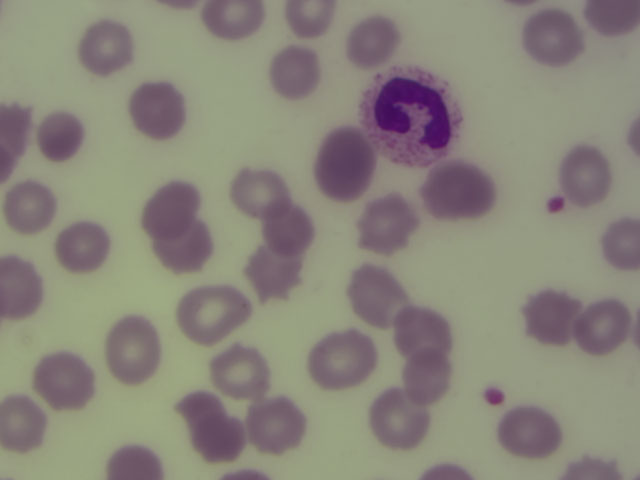Platelets: (481, 383, 512, 409), (545, 191, 568, 216)
RBC: (175, 283, 248, 340), (369, 388, 429, 451), (1, 251, 49, 326), (106, 318, 162, 378), (317, 130, 370, 192), (525, 11, 580, 69), (429, 166, 493, 215), (501, 407, 562, 455), (362, 197, 415, 251), (575, 299, 628, 353), (526, 288, 579, 342), (560, 144, 613, 198), (351, 270, 404, 324), (310, 328, 363, 382), (245, 250, 298, 304), (260, 204, 313, 258), (230, 164, 283, 218), (344, 14, 397, 68), (268, 44, 321, 98), (248, 398, 301, 452), (185, 403, 238, 457), (213, 340, 266, 394), (36, 354, 89, 408), (157, 218, 210, 272), (143, 178, 196, 232), (57, 221, 110, 275), (4, 179, 57, 233), (34, 111, 87, 165), (132, 82, 185, 136), (80, 22, 133, 76), (1, 396, 53, 450), (404, 350, 453, 406), (198, 1, 267, 40), (399, 310, 450, 359), (600, 211, 640, 270), (108, 438, 165, 479), (1, 95, 31, 170), (278, 1, 337, 39), (562, 445, 617, 479), (587, 1, 640, 36)
WBC: (367, 65, 464, 169)
